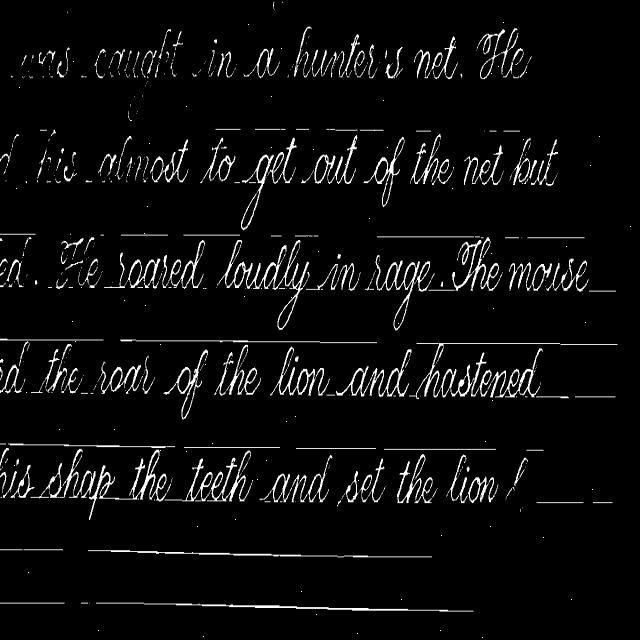noise: (80, 601, 473, 614), (0, 129, 78, 184), (86, 548, 432, 558), (0, 441, 176, 451), (10, 48, 68, 77), (416, 340, 618, 348), (118, 338, 378, 344), (30, 487, 129, 499), (183, 445, 282, 451), (295, 446, 378, 452), (0, 337, 114, 341), (383, 447, 496, 451), (0, 547, 66, 553), (324, 127, 386, 133), (376, 235, 490, 238), (251, 127, 314, 132), (538, 395, 616, 399), (524, 236, 584, 241), (26, 379, 46, 393), (0, 602, 67, 606), (536, 500, 612, 503), (426, 284, 456, 291), (120, 232, 169, 236), (0, 231, 35, 236), (183, 233, 240, 236), (588, 287, 616, 293), (78, 387, 94, 395), (216, 127, 241, 132), (164, 498, 186, 503), (104, 283, 124, 288), (306, 285, 322, 291), (85, 177, 98, 183), (524, 448, 544, 451), (500, 130, 519, 133), (414, 130, 432, 133), (296, 234, 319, 236), (486, 130, 499, 133), (504, 236, 522, 238)
not-noise: (242, 26, 468, 80), (270, 354, 539, 398), (93, 28, 182, 119), (218, 240, 308, 329), (452, 237, 588, 292), (365, 255, 434, 330), (462, 138, 558, 186), (0, 341, 80, 393), (98, 136, 188, 182), (39, 451, 114, 498), (261, 455, 332, 502), (186, 451, 252, 500), (470, 28, 532, 79), (117, 252, 204, 288), (252, 138, 296, 207), (364, 137, 406, 206), (446, 454, 499, 503), (410, 134, 456, 186), (394, 454, 441, 504), (94, 356, 155, 394), (311, 135, 358, 183), (56, 236, 98, 288), (215, 344, 257, 395), (181, 349, 208, 419), (130, 452, 168, 500), (344, 462, 388, 502), (0, 448, 34, 498), (0, 236, 31, 287), (214, 365, 262, 394), (320, 262, 364, 291), (204, 41, 238, 78), (273, 346, 294, 391), (522, 348, 542, 393), (506, 458, 527, 498), (206, 138, 224, 180), (176, 368, 203, 394), (191, 349, 208, 388), (397, 349, 411, 395), (429, 343, 444, 375)
